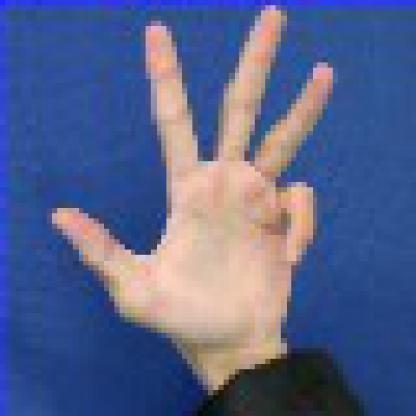nine: (43, 1, 362, 364)
